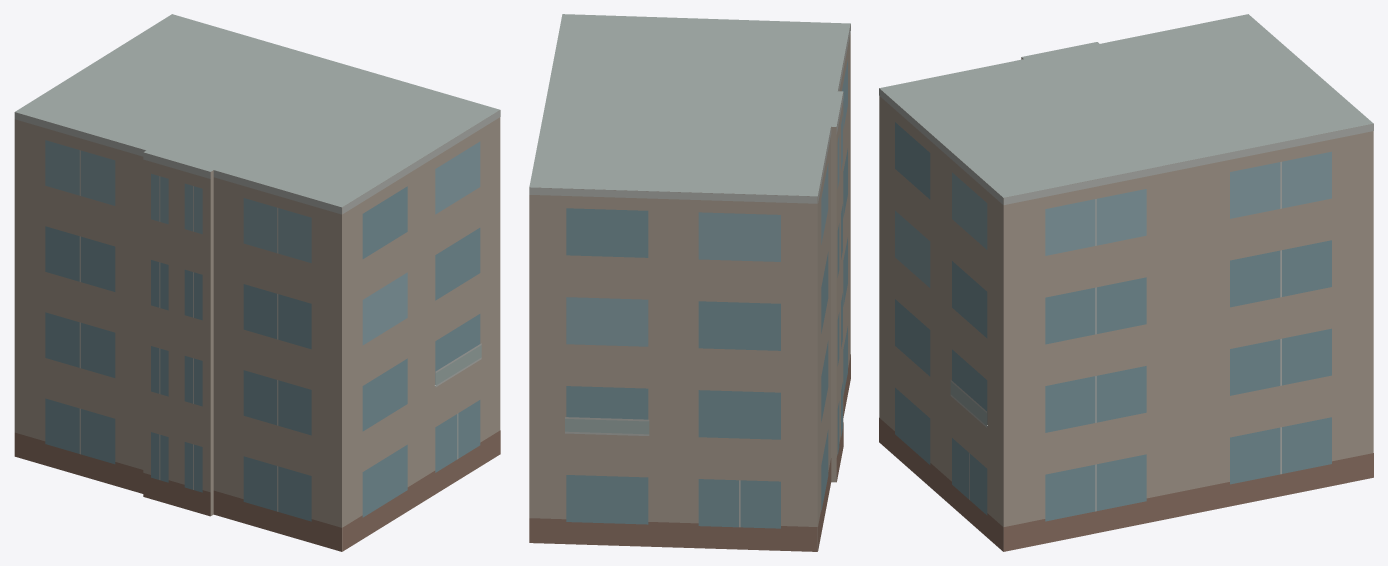
The model's file is survey-upis-32742427.glb.
3 renders of one model, left to right at view 1: azimuth 30°, elevation 25°; view 2: azimuth 150°, elevation 25°; view 3: azimuth 270°, elevation 25°, orthographic. The views are drawn at different scales.
Visible parts, largest first — view 1: survey-upis-32742427.tmp; view 2: survey-upis-32742427.tmp; view 3: survey-upis-32742427.tmp.
Boxes of the visible parts, x1,y1,x2,y2 form: survey-upis-32742427.tmp: [14, 14, 500, 551]; survey-upis-32742427.tmp: [529, 14, 850, 551]; survey-upis-32742427.tmp: [879, 14, 1373, 551].
Bounding box in the file's own units: 13.04 × 11.7 × 14.83.
